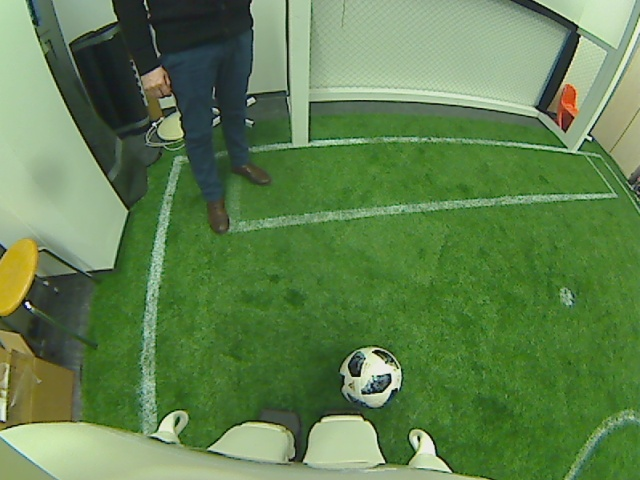ball: (336, 341, 401, 411)
